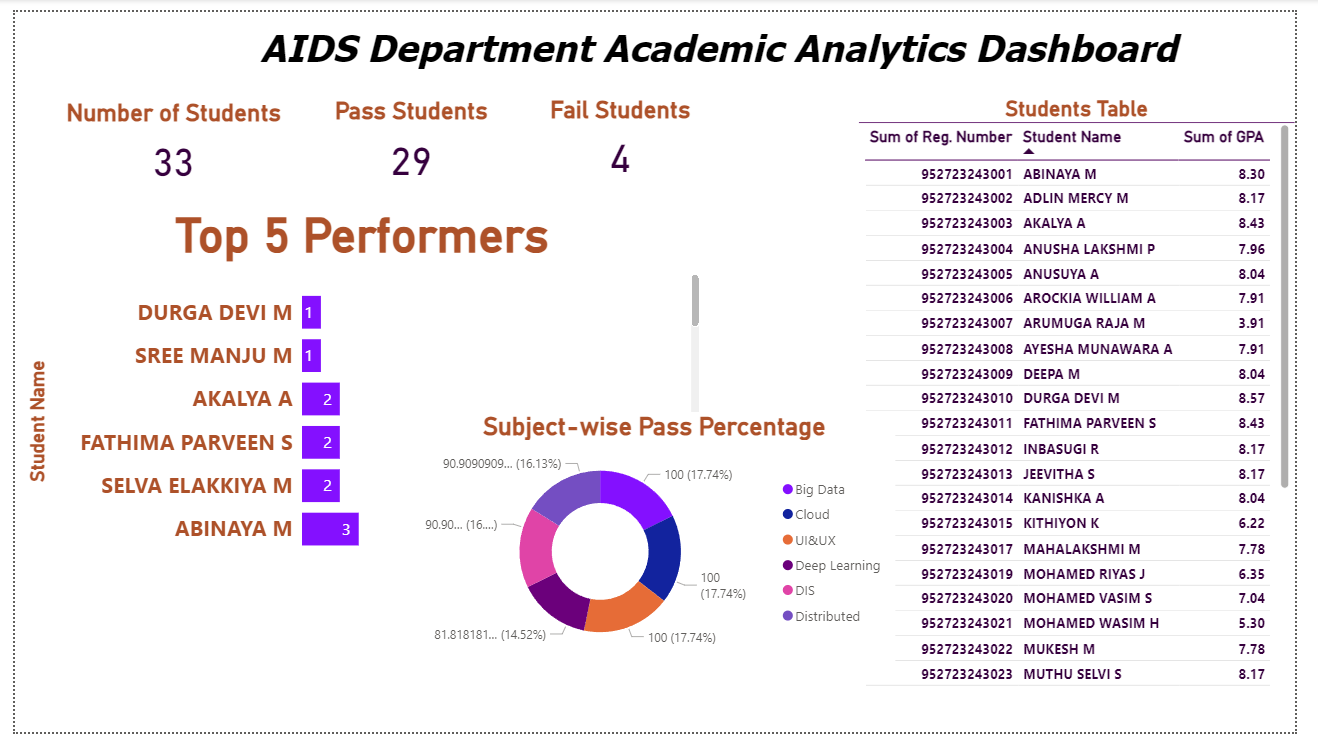

The page's visual inventory and layout, read from the dashboard file:
{"tool":"powerbi","page":{"name":"Project","canvas":[1280,720],"ordinal":0},"visuals":[{"type":"tableEx","title":"Students Table","fields":{"Values":["Sum(Project.Reg. Number)","Project.Student Name","Sum(Project.GPA)"]},"box":[843.8,83.8,435.7,600],"z":0,"group":"g1"},{"type":"clusteredBarChart","title":"Top 5 Performers","fields":{"Y":["Sum(Project.Rank)"],"Category":["Project.Student Name"]},"box":[0,195,688.8,390],"z":0},{"type":"card","title":"Fail Students","fields":{"Values":["Project.Fail_Count"]},"box":[512.9,84.3,185.7,95.7],"z":1000},{"type":"textbox","title":"Title","box":[221,6.9,954.5,70.9],"z":2000,"group":"g2"},{"type":"group","id":"g1","title":"Students_Table","box":[843.8,83.8,436.2,600],"z":2000},{"type":"group","id":"g2","title":"Title","box":[221,6.9,954.5,70.9],"z":3000},{"type":"card","title":"Pass Students","fields":{"Values":["Sum(Project.Pass_Count)"]},"box":[297.5,85,197.5,99.2],"z":4000},{"type":"card","title":"Number of Students","fields":{"Values":["Project.Total_Students"]},"box":[20,85.8,277.5,99.2],"z":5000},{"type":"donutChart","title":"Subject-wise Pass Percentage","fields":{"Y":["Project.Big Data","Project.Cloud","Project.UI&UX","Project.Deep Learning Pass %","Project.DIS","Project.Distributed"]},"box":[398.8,400,481.2,251.2],"z":6000}]}

Visuals, with their boxes in screenshot pixels (x1, y1, x2, y2), scaled from the page's 1280x720 canvas onto the 1318x741 screenshot:
"Students Table" tableEx: l=869, t=86, r=1317, b=704
"Top 5 Performers" clusteredBarChart: l=0, t=201, r=709, b=602
"Fail Students" card: l=528, t=87, r=719, b=185
"Title" textbox: l=228, t=7, r=1210, b=80
"Students_Table" group: l=869, t=86, r=1317, b=704
"Title" group: l=228, t=7, r=1210, b=80
"Pass Students" card: l=306, t=87, r=510, b=190
"Number of Students" card: l=21, t=88, r=306, b=190
"Subject-wise Pass Percentage" donutChart: l=411, t=412, r=906, b=670
